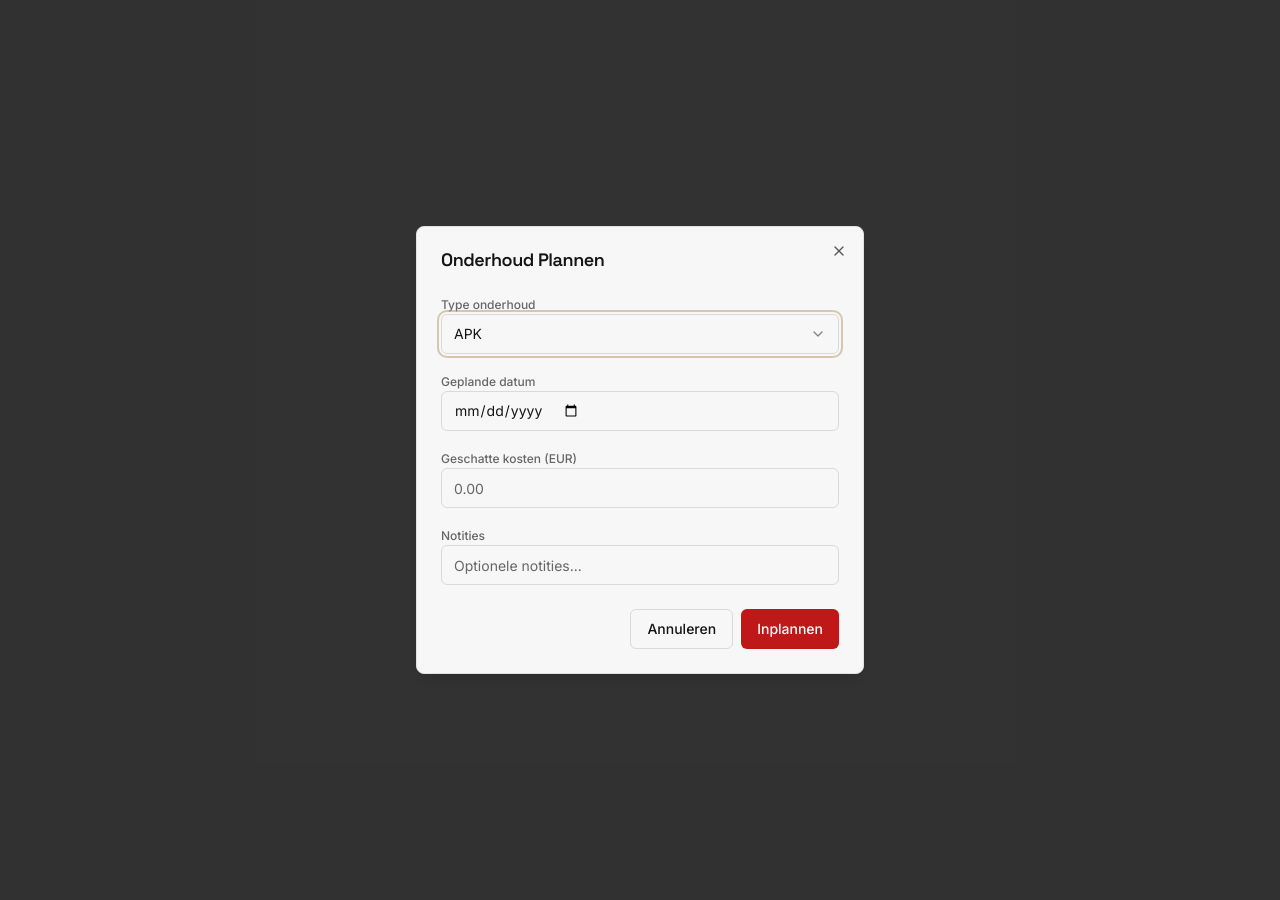
Test case: MaintenanceDialog › shows inline error when submitting without date
The image size is (1280, 900).
Click the button "Inplannen": (790, 629) [741, 609, 839, 649]
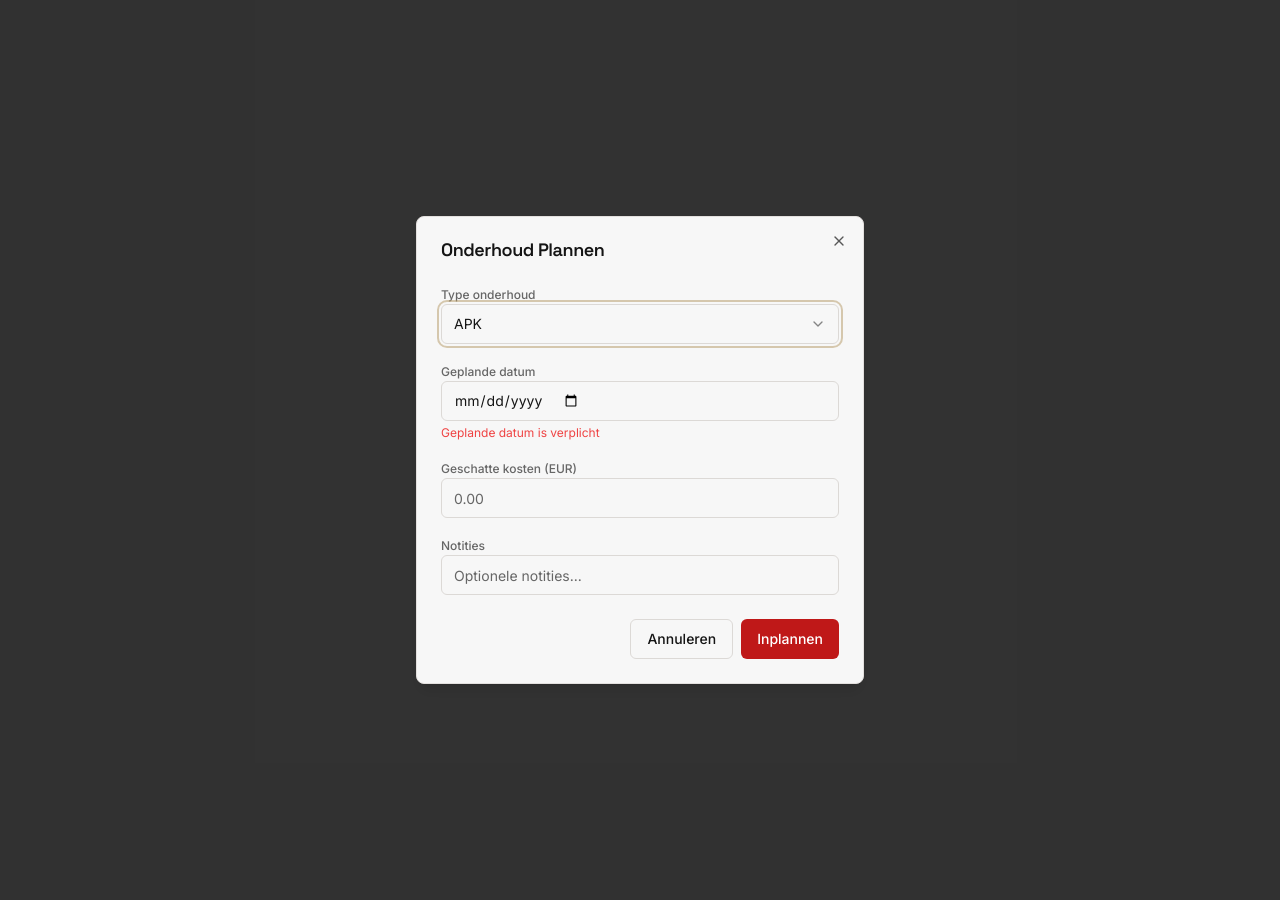
Now the text "Geplande datum is verplicht" is shown, box [441, 425, 600, 440]
